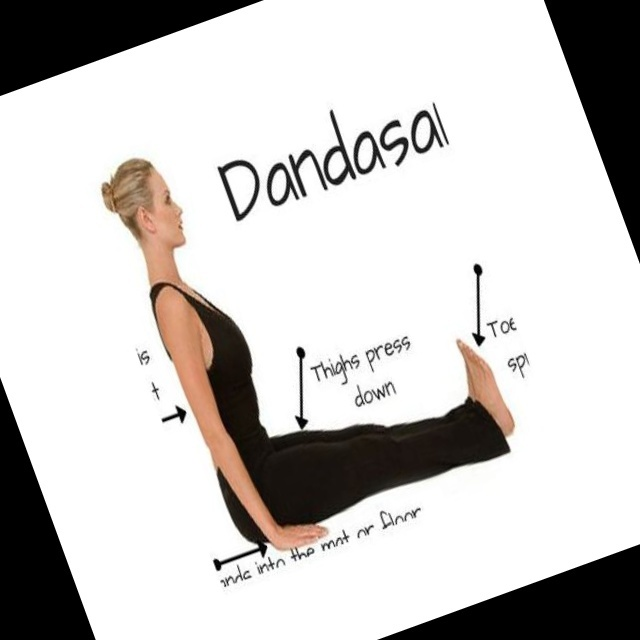Staff_Pose: (102, 158, 517, 549)
